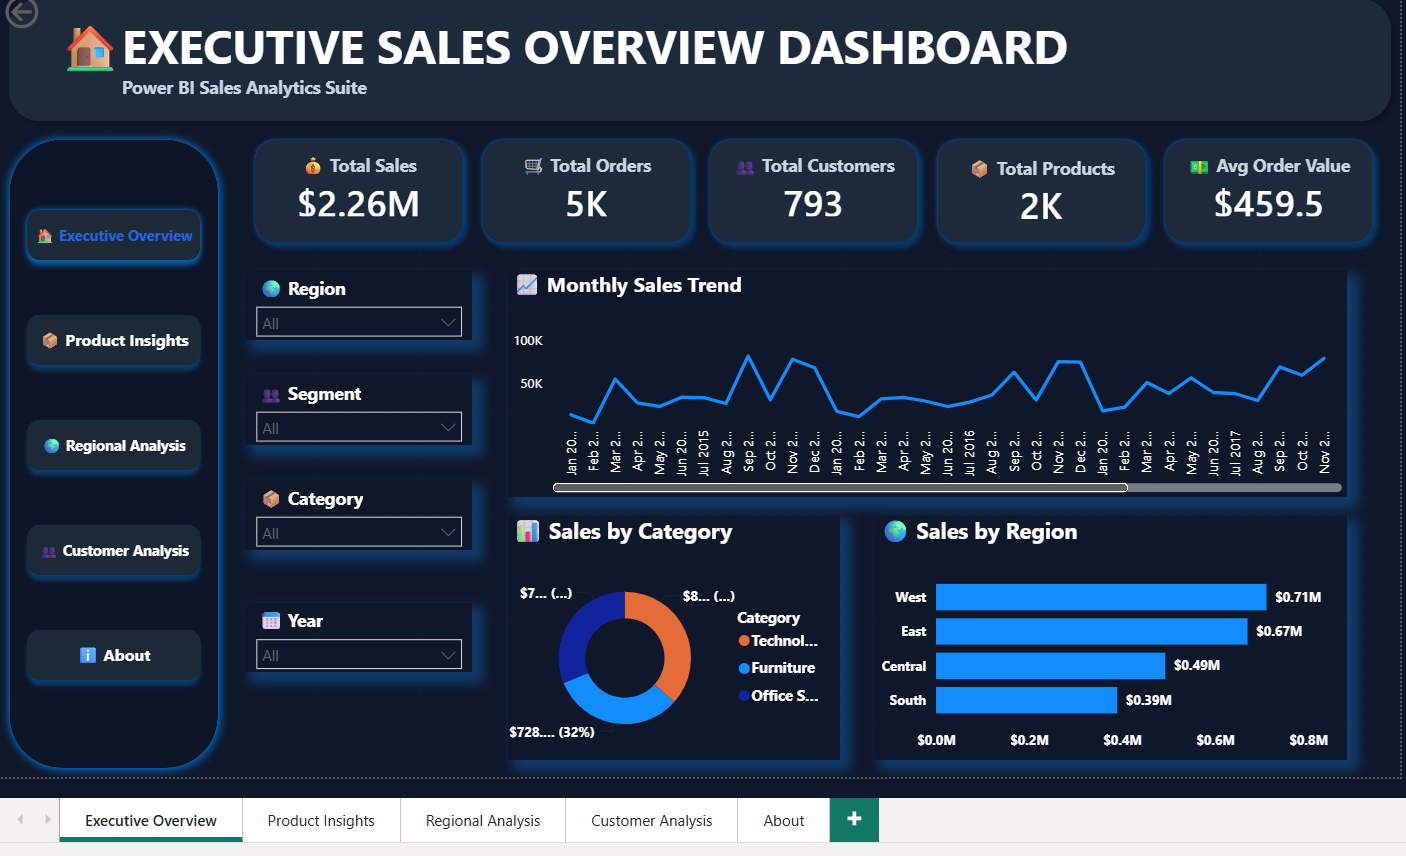

The dashboard page shown, as its layout file describes it:
{"tool":"powerbi","page":{"name":"Executive Overview","canvas":[1280,720],"ordinal":0},"visuals":[{"type":"shape","box":[0,128,208,592],"z":0},{"type":"shape","box":[0,0,1280,128],"z":1000},{"type":"textbox","box":[48,16,1024,96],"z":2000},{"type":"actionButton","box":[16,192,170,42],"z":3000},{"type":"actionButton","box":[16,288,170,42],"z":4000},{"type":"actionButton","box":[16,384,170,42],"z":5000},{"type":"actionButton","box":[16,480,170,42],"z":6000},{"type":"actionButton","box":[16,576,170,42],"z":7000},{"type":"shape","box":[224,128,208,112],"z":8000},{"type":"cardVisual","fields":{"Data":["Sales_Data.Total Sales"]},"box":[240,160,176,64],"z":9000},{"type":"textbox","box":[240,144,176,32],"z":10000},{"type":"shape","box":[432,128,208,112],"z":11000},{"type":"cardVisual","fields":{"Data":["Sales_Data.Total Orders"]},"box":[448,160,176,64],"z":12000},{"type":"textbox","box":[448,144,176,32],"z":13000},{"type":"shape","box":[640,128,208,112],"z":14000},{"type":"cardVisual","fields":{"Data":["Sales_Data.Total Customers"]},"box":[656,160,176,64],"z":15000},{"type":"textbox","box":[656,144,176,32],"z":16000},{"type":"shape","box":[848,128,208,112],"z":17000},{"type":"cardVisual","fields":{"Data":["Sales_Data.Total Products"]},"box":[863.7,162.3,176,64],"z":18000},{"type":"textbox","box":[863.7,146.3,176,32],"z":19000},{"type":"shape","box":[1056,128,208,112],"z":20000},{"type":"cardVisual","fields":{"Data":["Sales_Data.Average Order Value"]},"box":[1072,160,176,64],"z":21000},{"type":"textbox","box":[1072,144,176,32],"z":22000},{"type":"slicer","fields":{"Values":["Sales_Data.Region"]},"box":[224,256,208,64],"z":23000},{"type":"slicer","fields":{"Values":["Sales_Data.Segment"]},"box":[224,352,208,64],"z":24000},{"type":"slicer","fields":{"Values":["Sales_Data.Category"]},"box":[224,448,208,64],"z":25000},{"type":"slicer","fields":{"Values":["Sales_Data.Year"]},"box":[224,560,208,64],"z":26000},{"type":"actionButton","box":[0,0,100,40],"z":27000},{"type":"lineChart","title":"📈 Monthly Sales Trend","fields":{"Category":["Sales_Data.Month Year"],"Y":["Sum(Sales_Data.Sales)"]},"box":[464,256,768,208],"z":28000},{"type":"donutChart","title":"📊 Sales by Category","fields":{"Category":["Sales_Data.Category"],"Y":["Sales_Data.Total Sales"]},"box":[464,480,304,224],"z":29000},{"type":"clusteredBarChart","title":"🌍 Sales by Region","fields":{"Category":["Sales_Data.Region"],"Y":["Sales_Data.Total Sales"]},"box":[800,480,432,224],"z":30000}]}

Visuals, with their boxes on the page's 1280x720 design canvas (x1, y1, x2, y2). These are canvas units, not pixel positions in the 1406x856 screenshot, which may show the page scaled, cropped or inside an application window:
shape: (0, 128, 208, 720)
shape: (0, 0, 1280, 128)
textbox: (48, 16, 1072, 112)
actionButton: (16, 192, 186, 234)
actionButton: (16, 288, 186, 330)
actionButton: (16, 384, 186, 426)
actionButton: (16, 480, 186, 522)
actionButton: (16, 576, 186, 618)
shape: (224, 128, 432, 240)
cardVisual - Sales_Data.Total Sales: (240, 160, 416, 224)
textbox: (240, 144, 416, 176)
shape: (432, 128, 640, 240)
cardVisual - Sales_Data.Total Orders: (448, 160, 624, 224)
textbox: (448, 144, 624, 176)
shape: (640, 128, 848, 240)
cardVisual - Sales_Data.Total Customers: (656, 160, 832, 224)
textbox: (656, 144, 832, 176)
shape: (848, 128, 1056, 240)
cardVisual - Sales_Data.Total Products: (864, 162, 1040, 226)
textbox: (864, 146, 1040, 178)
shape: (1056, 128, 1264, 240)
cardVisual - Sales_Data.Average Order Value: (1072, 160, 1248, 224)
textbox: (1072, 144, 1248, 176)
slicer - Sales_Data.Region: (224, 256, 432, 320)
slicer - Sales_Data.Segment: (224, 352, 432, 416)
slicer - Sales_Data.Category: (224, 448, 432, 512)
slicer - Sales_Data.Year: (224, 560, 432, 624)
actionButton: (0, 0, 100, 40)
"📈 Monthly Sales Trend" lineChart: (464, 256, 1232, 464)
"📊 Sales by Category" donutChart: (464, 480, 768, 704)
"🌍 Sales by Region" clusteredBarChart: (800, 480, 1232, 704)
